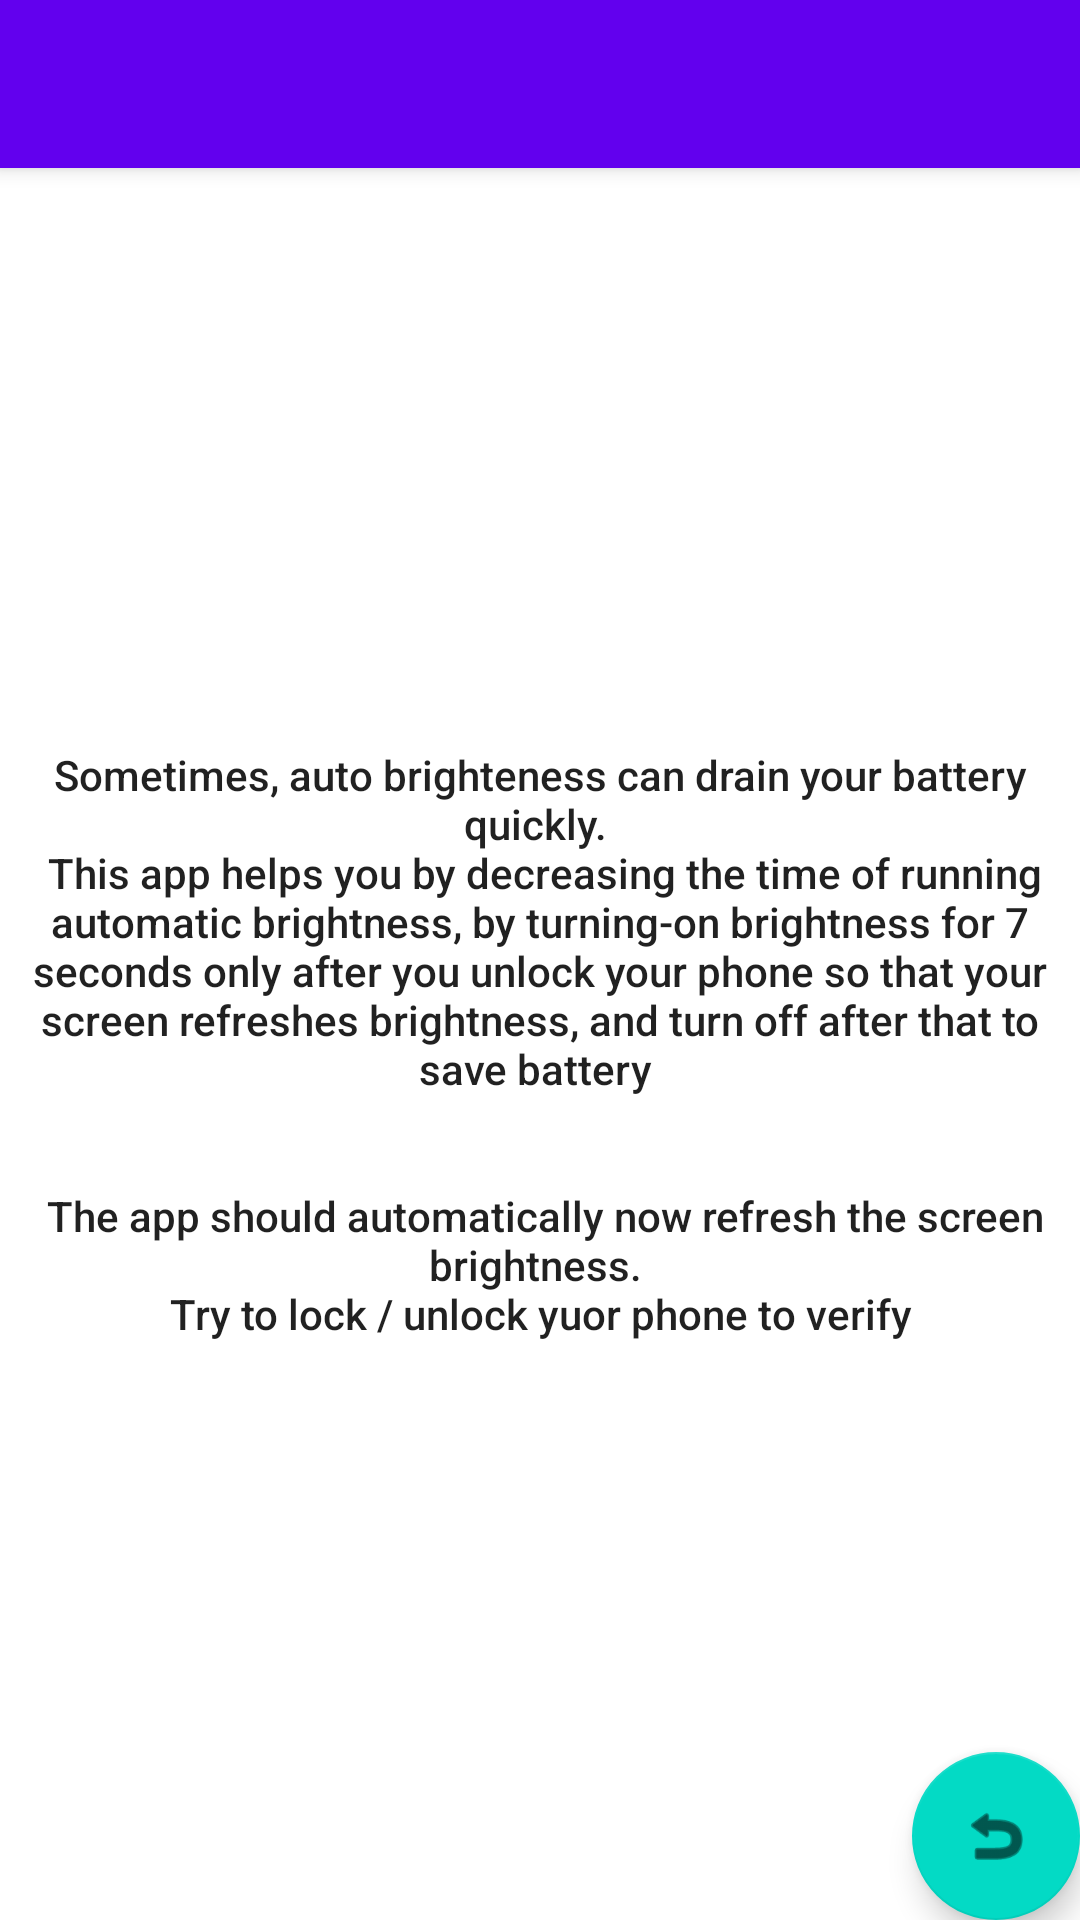

Point at icon controls on the screen. Image size 1080×1920, points as (x=x, y=y).
revert: (x=996, y=1836)
